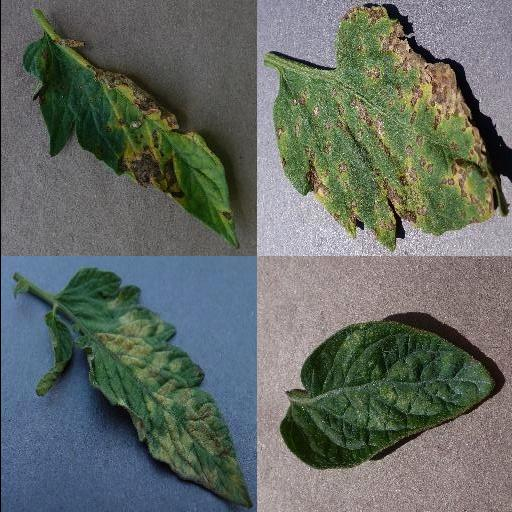Early Blight: (17, 39, 239, 247)
Leaf Mold: (35, 271, 253, 508)
Septoria: (274, 5, 508, 252)
Spider Mites: (278, 319, 494, 469)
